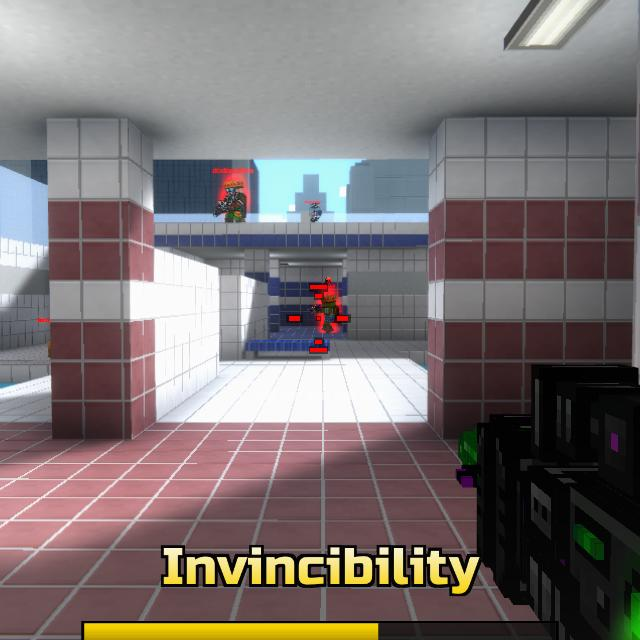Enemy: (218, 180, 246, 223), (315, 296, 339, 335)
